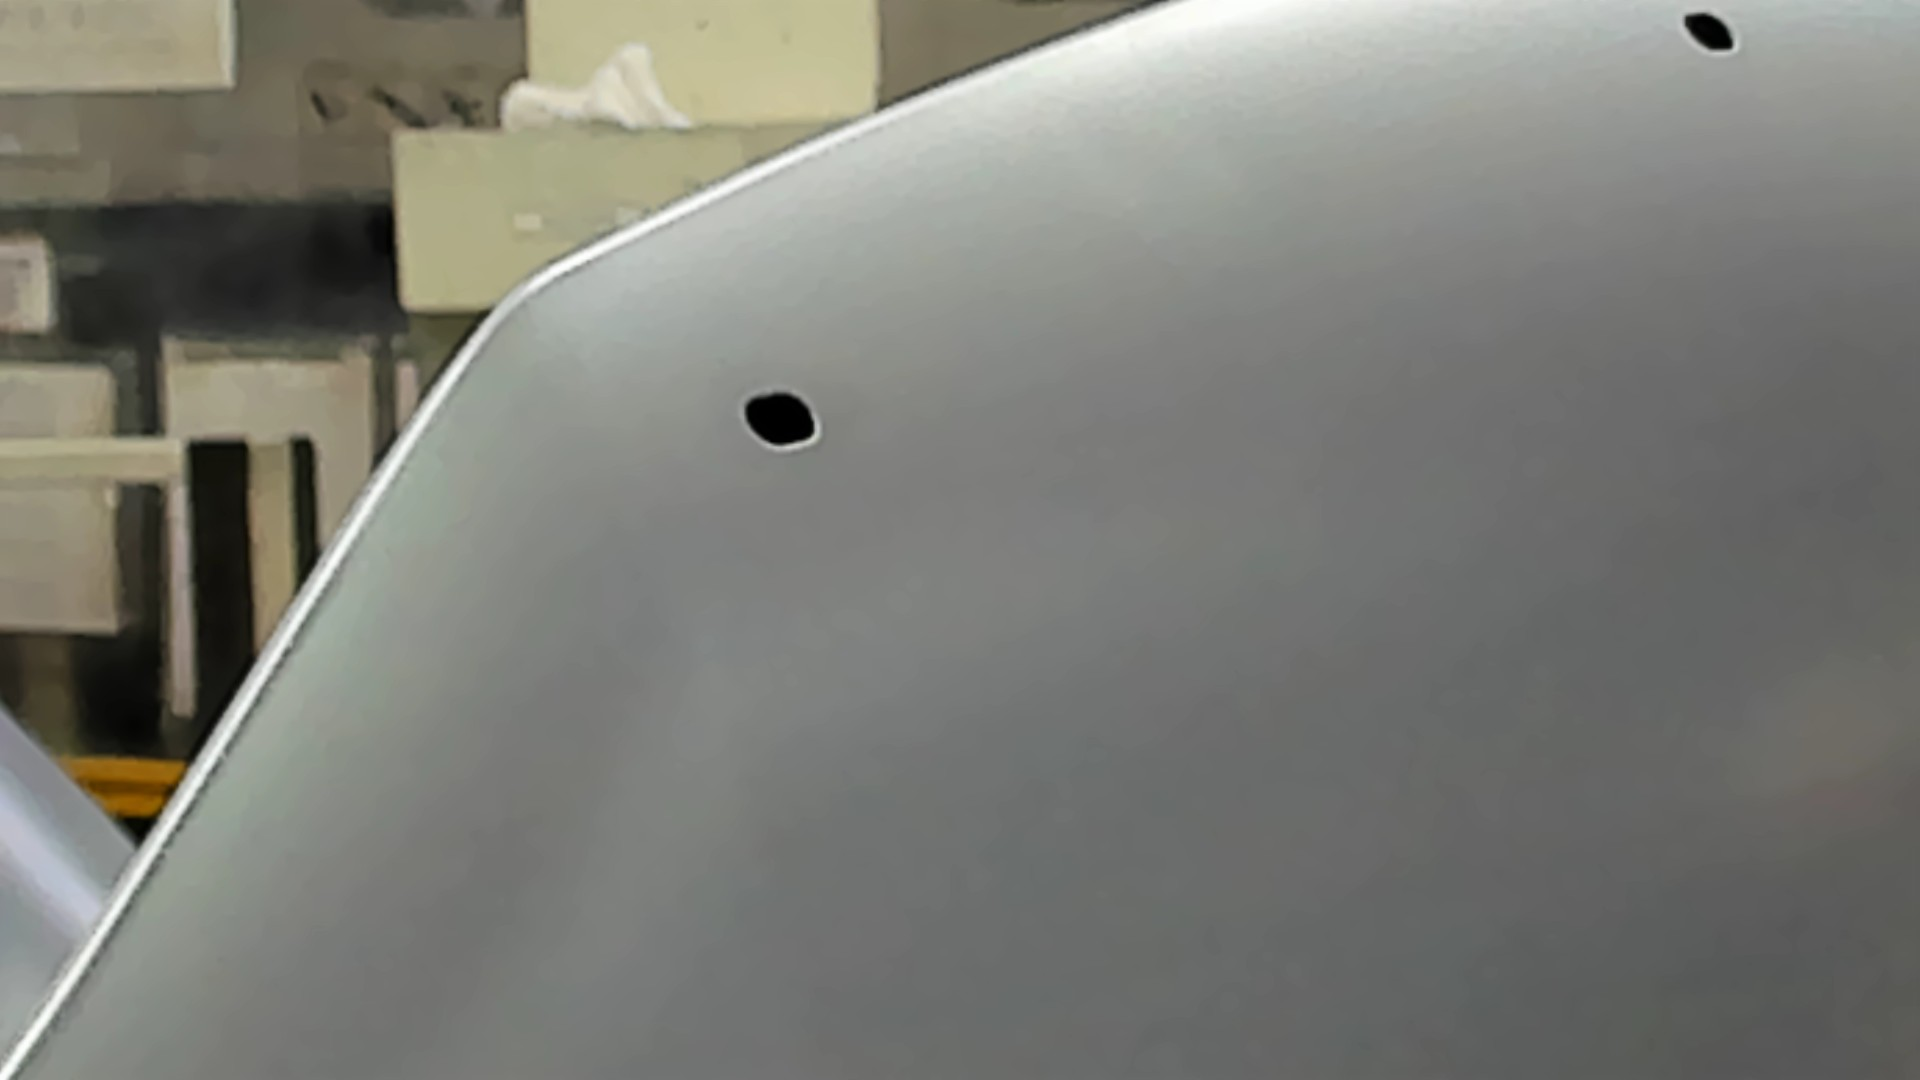amorfo: (742, 388, 822, 455), (1680, 11, 1745, 55)
